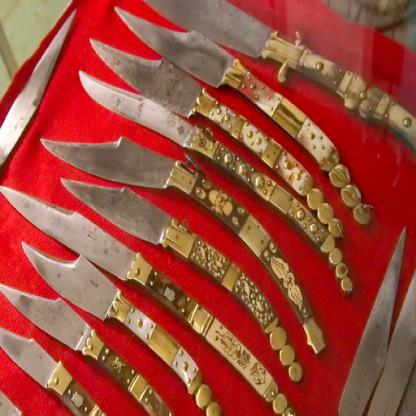knife: (0, 0, 415, 415), (256, 224, 415, 415)
